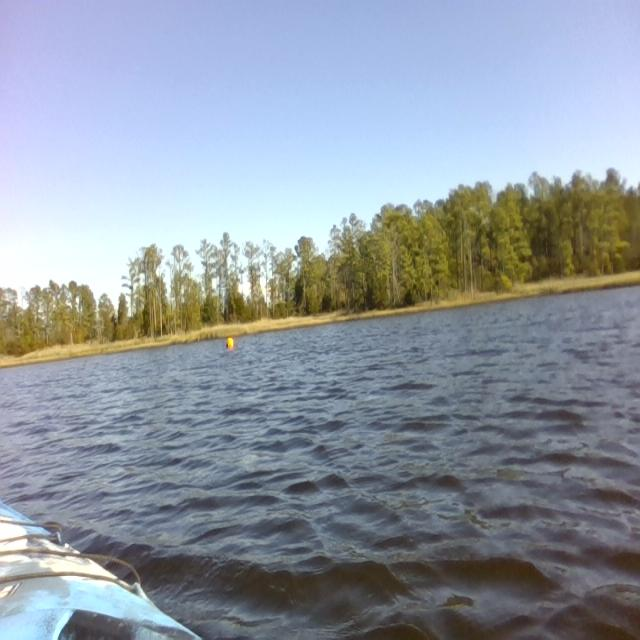Buoy: (221, 328, 240, 360)
